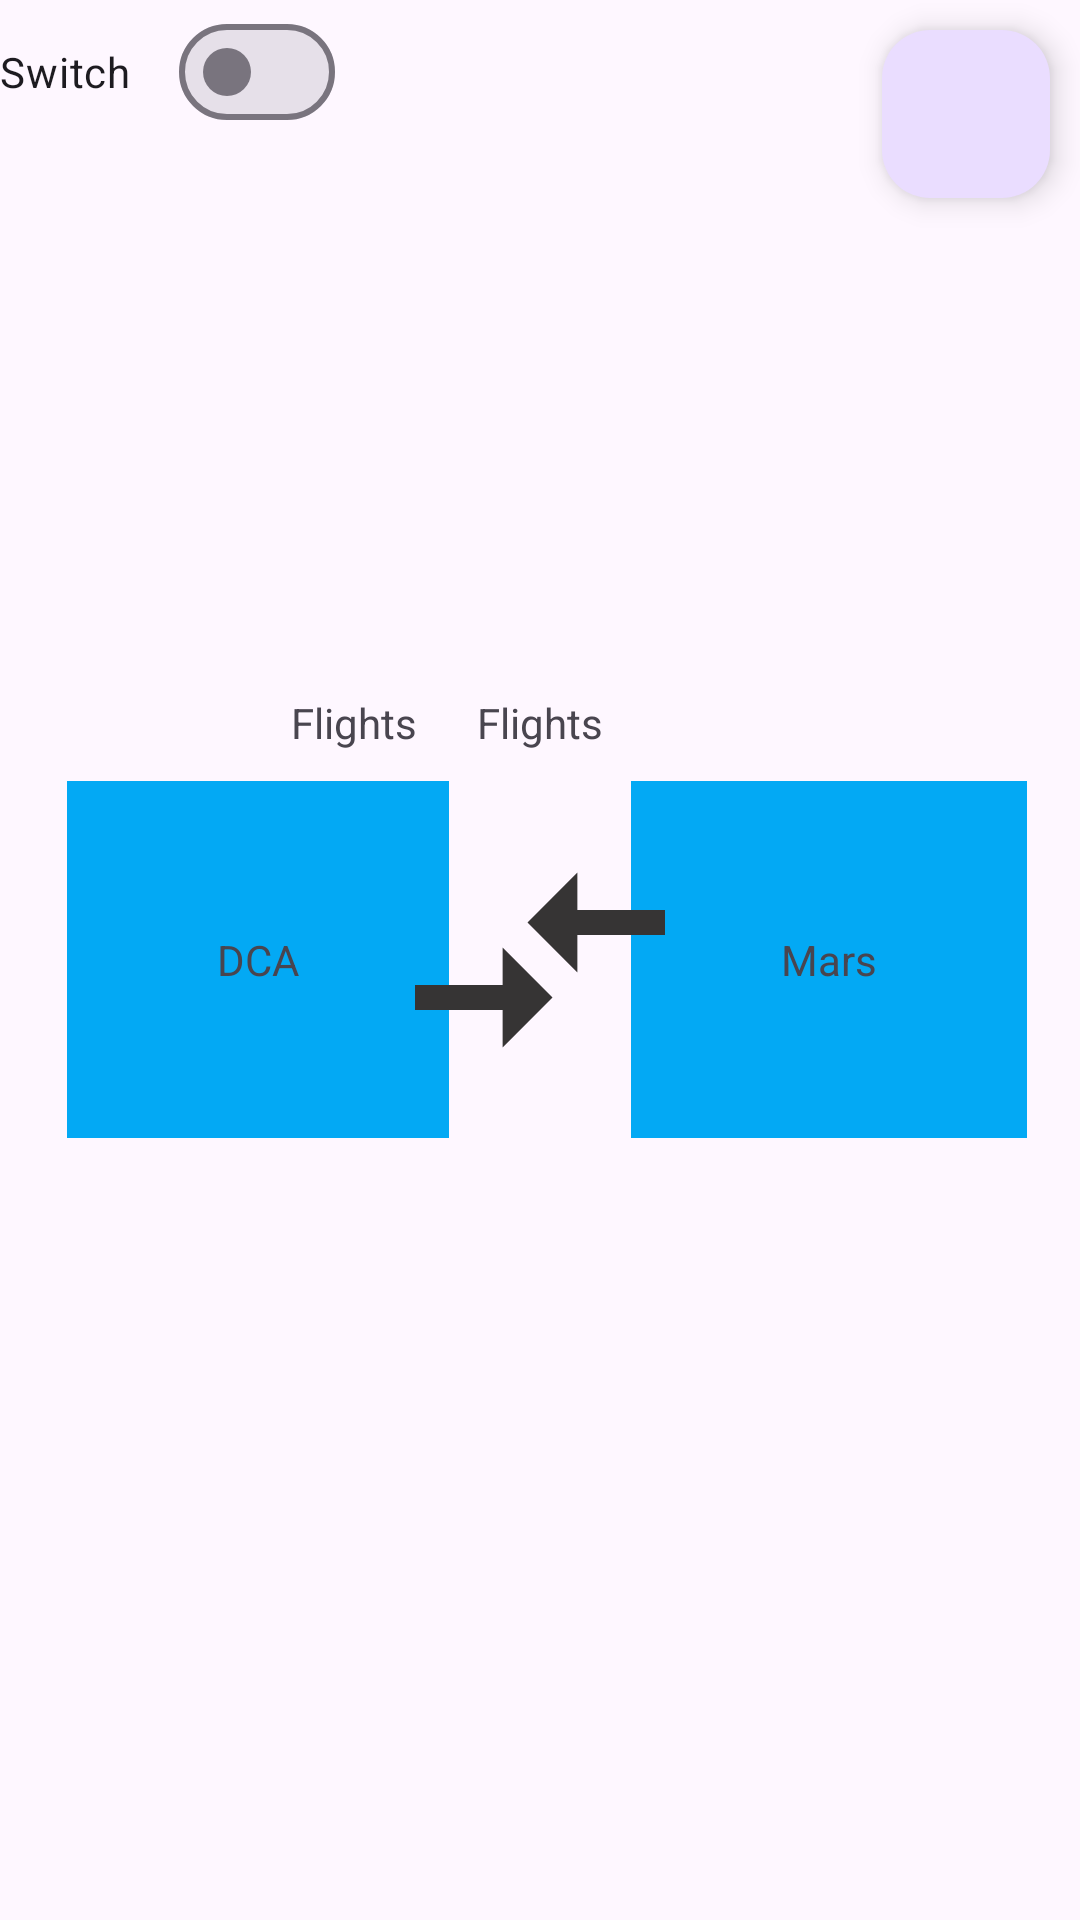

Named icons in this screenshot (1080x1920) and their bounding boxes, (x1, y1, x2, y2):
compare arrows: (415, 810, 665, 1110)
